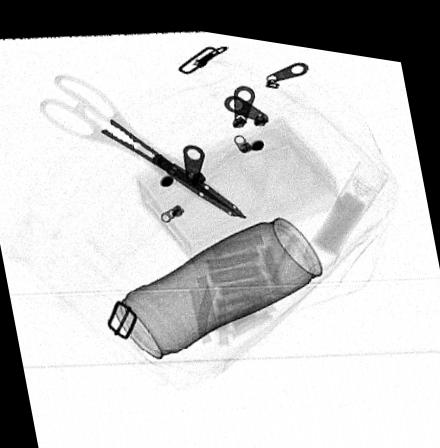Scissors: (39, 71, 245, 208)
